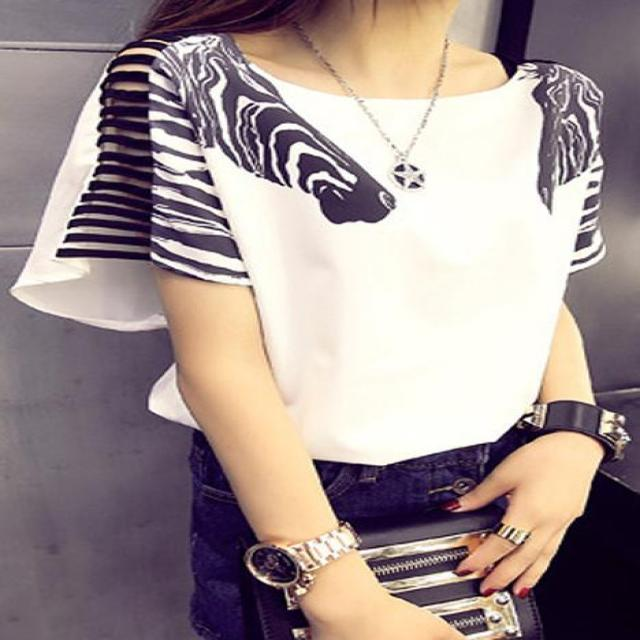short sleeve top: (11, 27, 610, 453)
skirt: (194, 430, 572, 639)
